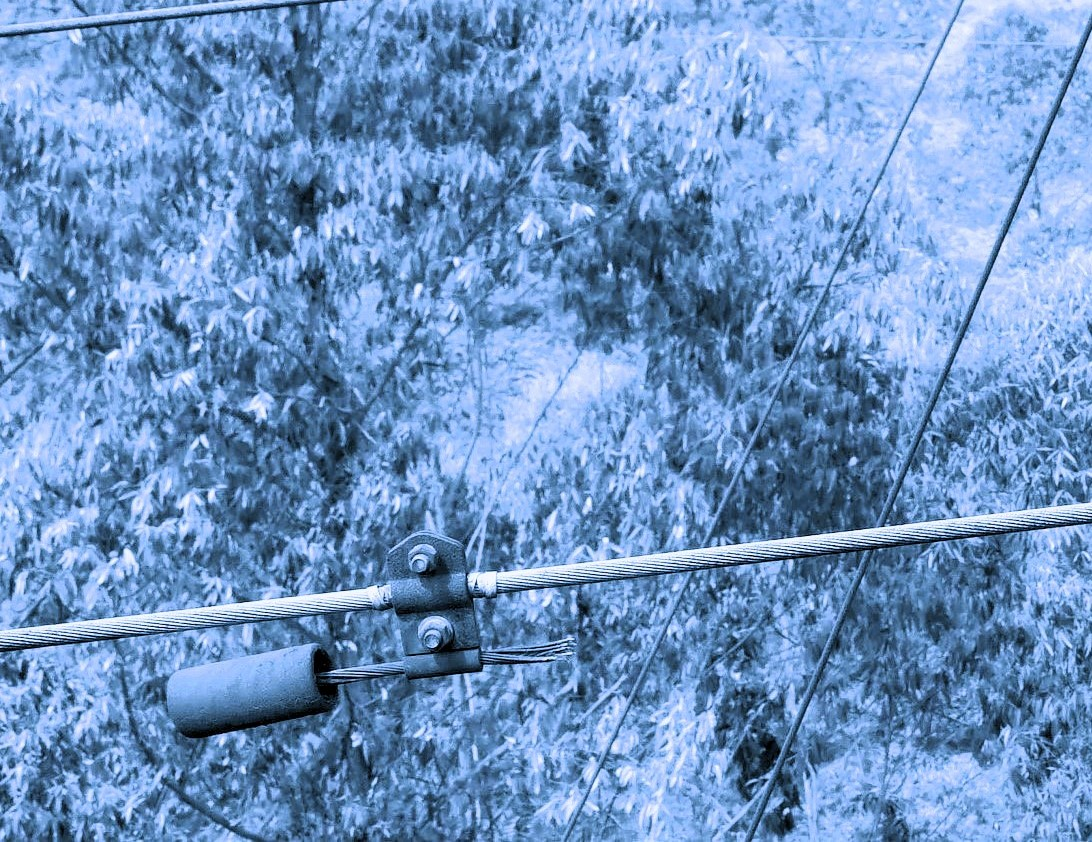Damage of shockproof hammer: (152, 517, 593, 741)
